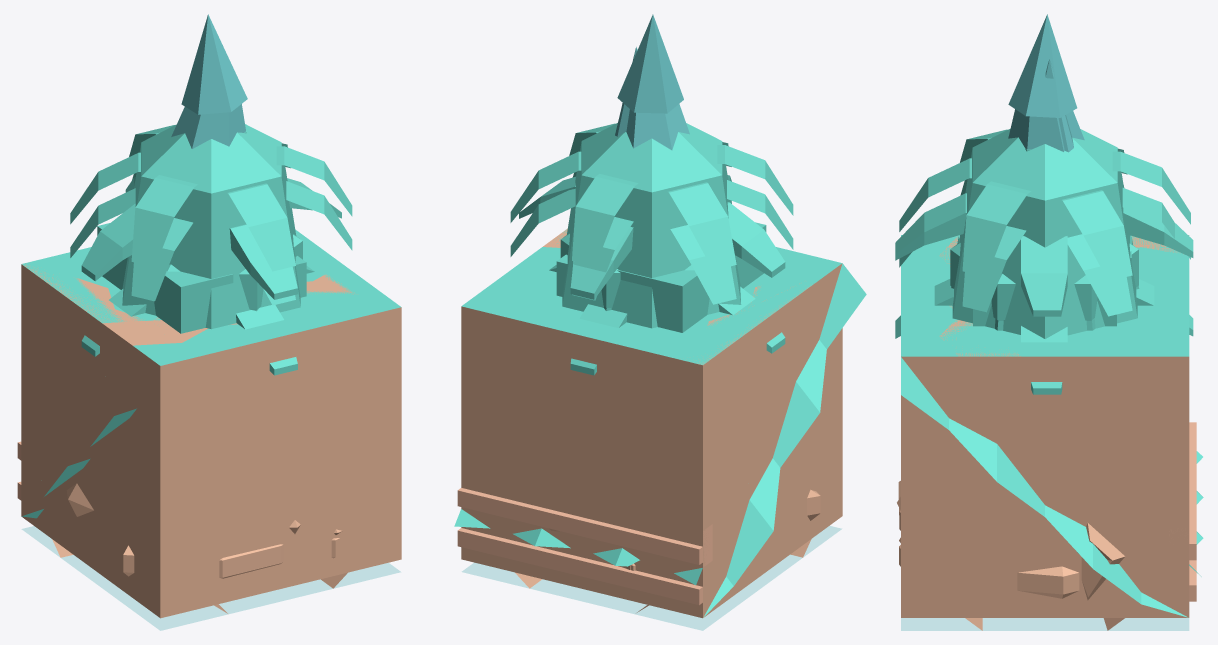
Rendered from nature.glb.
The picture shows the model from 3 angles, left to right: view 1: azimuth 30°, elevation 25°; view 2: azimuth 150°, elevation 25°; view 3: azimuth 270°, elevation 25°; orthographic projection. The views are drawn at different scales.
Parts seen in each view (by area): view 1: cliff_blockSlope_rock, cliff_steps_rock, cliff_block_rock, tree_default, tree_palm, tree_pineTallD, tree_palmTall, ground_riverOpen, tree_palmBend, tree_blocks, cliff_blockHalf_rock, cliff_large_rock (+6 smaller); view 2: cliff_block_rock, cliff_blockHalf_rock, cliff_steps_rock, tree_default, fence_planks, tree_palm, cliff_blockSlope_rock, tree_pineTallD, tree_palmBend, ground_riverOpen, cliff_cornerInner_rock, tree_palmTall (+4 smaller); view 3: cliff_steps_rock, cliff_block_rock, tree_default, tree_palm, tree_palmTall, cliff_blockSlope_rock, cliff_blockHalf_rock, tree_pineTallD, tree_palmBend, ground_riverOpen, cliff_large_rock, tree_plateau (+6 smaller).
Boxes of the visible parts, x1,y1,x2,y2 form: cliff_blockSlope_rock: [21, 307, 401, 618]; cliff_steps_rock: [21, 287, 401, 617]; cliff_block_rock: [21, 229, 373, 479]; tree_default: [122, 124, 300, 329]; tree_palm: [70, 125, 352, 271]; tree_pineTallD: [171, 14, 247, 148]; tree_palmTall: [81, 177, 341, 299]; ground_riverOpen: [21, 526, 401, 630]; tree_palmBend: [70, 173, 352, 305]; tree_blocks: [97, 223, 306, 333]; cliff_blockHalf_rock: [21, 390, 76, 485]; cliff_large_rock: [102, 274, 354, 345]; cliff_block_rock: [461, 230, 813, 618]; cliff_blockHalf_rock: [461, 433, 758, 617]; cliff_steps_rock: [454, 247, 842, 617]; tree_default: [562, 123, 741, 328]; fence_planks: [457, 488, 702, 605]; tree_palm: [510, 123, 793, 270]; cliff_blockSlope_rock: [703, 263, 866, 617]; tree_pineTallD: [617, 14, 689, 150]; tree_palmBend: [510, 172, 793, 304]; ground_riverOpen: [461, 525, 842, 630]; cliff_cornerInner_rock: [662, 283, 810, 614]; tree_palmTall: [519, 175, 785, 299]; cliff_steps_rock: [901, 235, 1203, 617]; cliff_block_rock: [939, 235, 1189, 487]; tree_default: [952, 128, 1137, 338]; tree_palm: [899, 129, 1190, 281]; tree_palmTall: [895, 193, 1193, 316]; cliff_blockSlope_rock: [901, 357, 1188, 617]; cliff_blockHalf_rock: [1074, 487, 1189, 565]; tree_pineTallD: [1008, 14, 1084, 151]; tree_palmBend: [899, 179, 1190, 316]; ground_riverOpen: [901, 618, 1189, 630]; cliff_large_rock: [939, 238, 1021, 460]; tree_plateau: [950, 242, 1138, 320].
Bounding box in the file's own units: 1.2 × 2.13 × 1.07.
